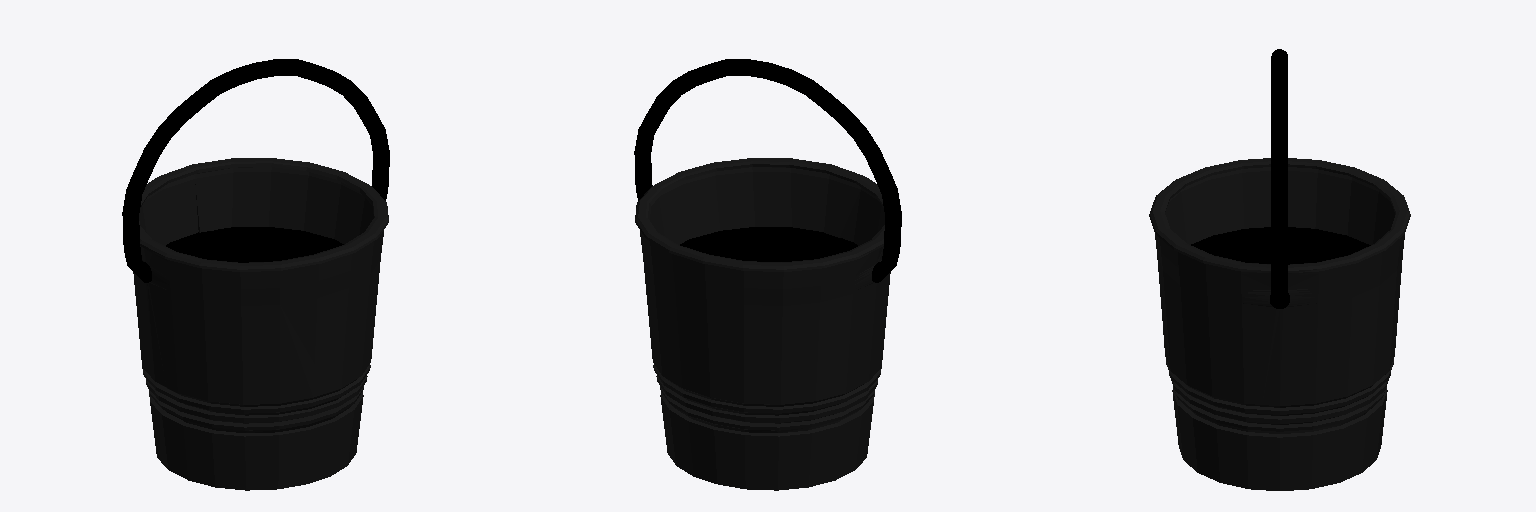
File: waterBucket.obj
The picture shows the model from 3 angles: view 1: azimuth 30°, elevation 25°; view 2: azimuth 150°, elevation 25°; view 3: azimuth 270°, elevation 25°; orthographic projection.
Visible parts, largest first — view 1: polySurface465; view 2: polySurface465; view 3: polySurface465.
Boxes of the visible parts, box(x1,y1,x2,y2) form: polySurface465: box(122, 59, 389, 490); polySurface465: box(634, 59, 901, 490); polySurface465: box(1149, 49, 1410, 490).
Size of the model in its own units: 55.38 by 76.97 by 47.42.